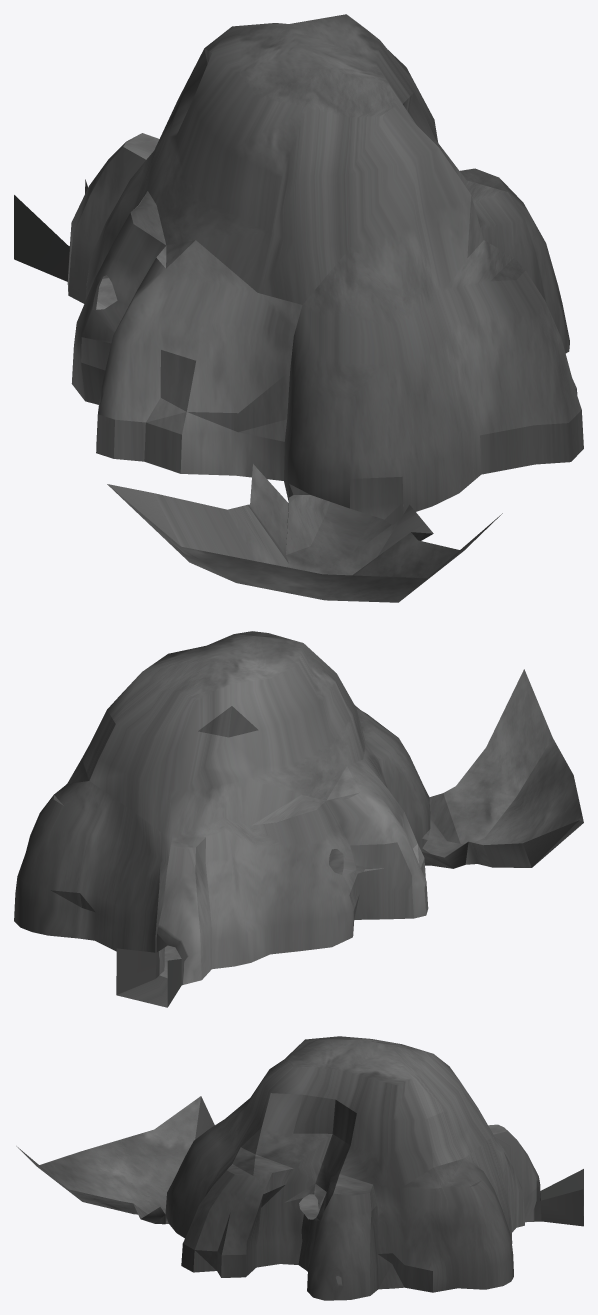
Rendered from Cave.FBX.
3 renders of one model, top to bottom at view 1: azimuth 30°, elevation 25°; view 2: azimuth 150°, elevation 25°; view 3: azimuth 270°, elevation 25°, orthographic. The views are drawn at different scales.
Visible parts, largest first — view 1: Line001; view 2: Line001; view 3: Line001.
Part boxes in pixels (x1=…): Line001: x1=14, y1=14, x2=583, y2=602; Line001: x1=14, y1=631, x2=583, y2=1007; Line001: x1=16, y1=1036, x2=583, y2=1300.
Bounding box in the file's own units: 964 × 610 × 1438.
